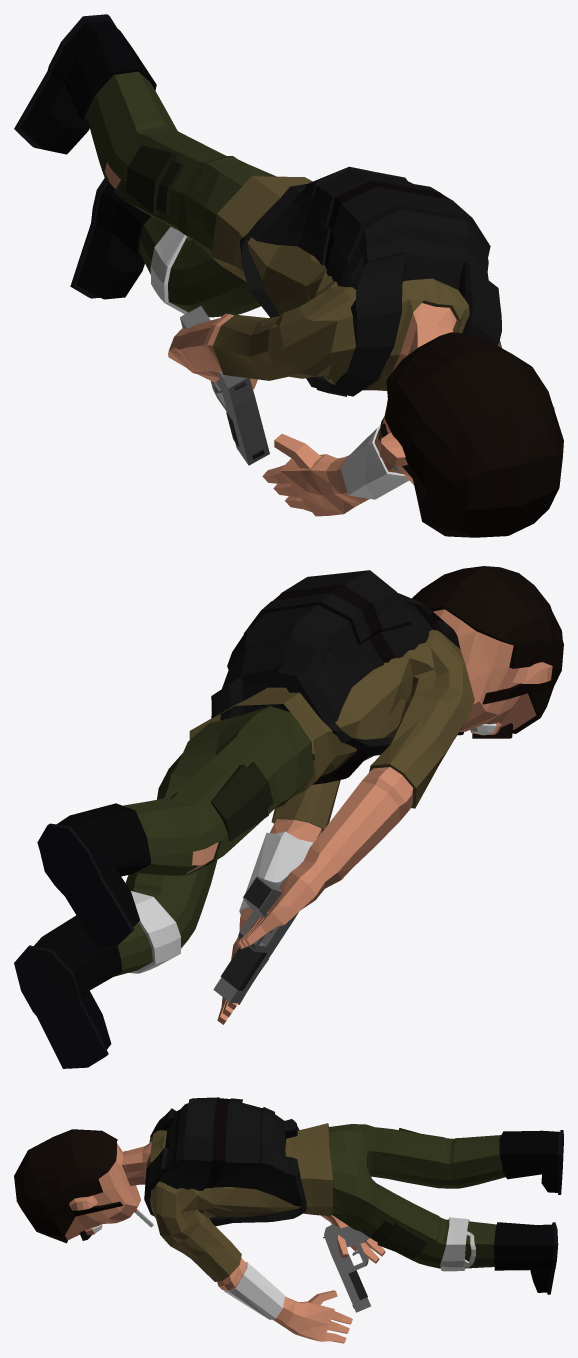
Rendered from frame_0010.obj.
3 views of the same model, one above another, from view 1: azimuth 30°, elevation 25°; view 2: azimuth 150°, elevation 25°; view 3: azimuth 270°, elevation 25° (orthographic). The views are drawn at different scales.
Visible parts, largest first — view 1: Body, Gun; view 2: Body, Gun; view 3: Body, Gun.
Boxes of the visible parts, x1=… form: Body: x1=14, y1=14, x2=563, y2=537; Gun: x1=180, y1=306, x2=269, y2=465; Body: x1=14, y1=566, x2=563, y2=1068; Gun: x1=213, y1=876, x2=298, y2=1003; Body: x1=14, y1=1097, x2=563, y2=1343; Gun: x1=323, y1=1224, x2=370, y2=1312.
Bounding box in the file's own units: 1.08 × 1.96 × 4.13.
